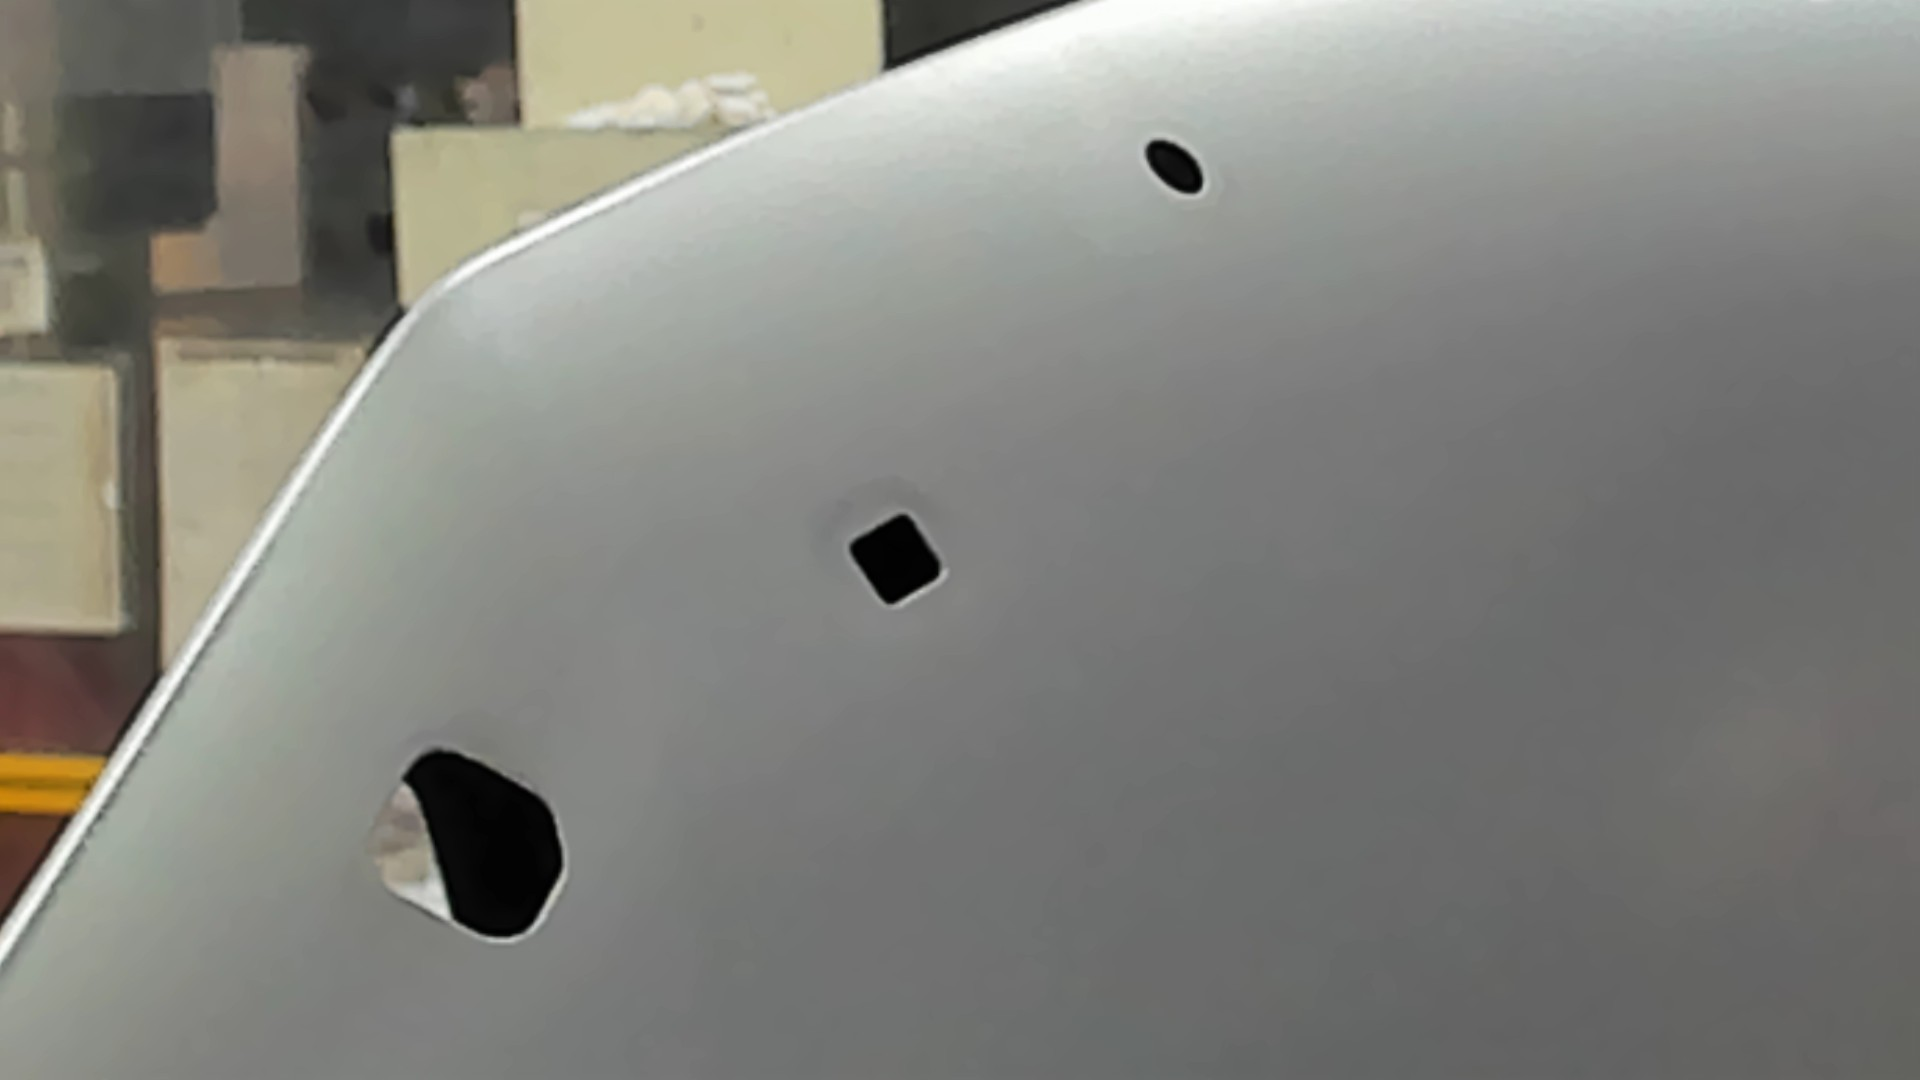capo: (953, 202, 1920, 1080)
chico: (1141, 135, 1211, 200)
grande: (361, 742, 578, 948)
mediano: (839, 501, 953, 615)
